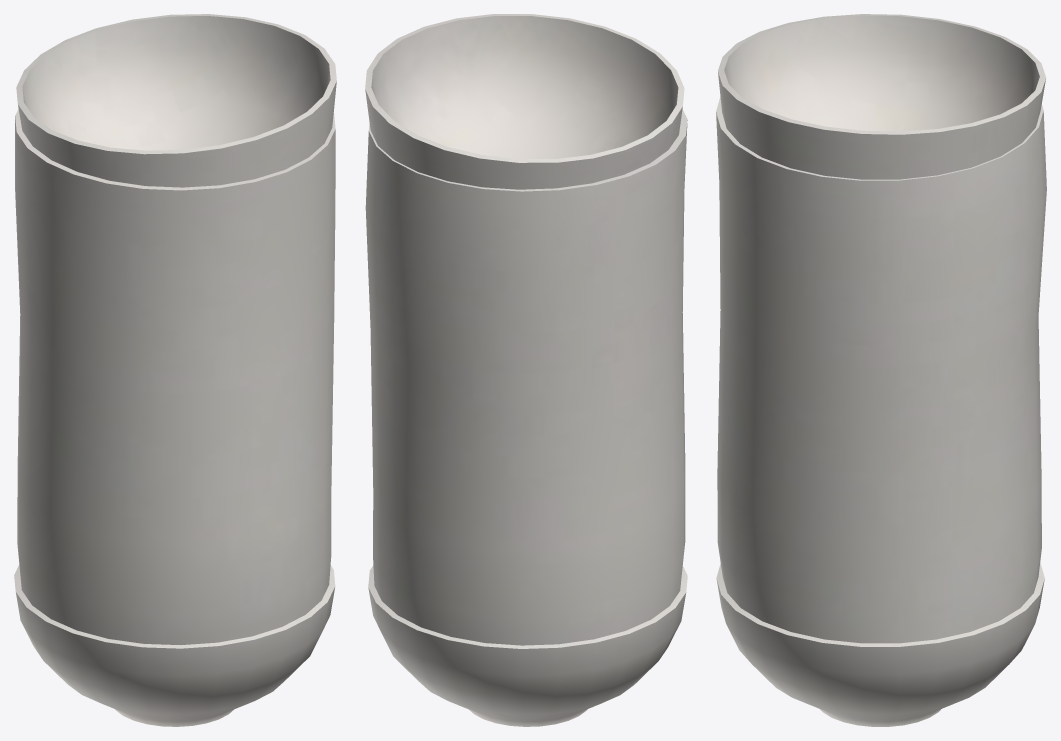
Rendered from T_Kitchen_Bowl_Stack_02.glb.
3 renders of one model, left to right at view 1: azimuth 30°, elevation 25°; view 2: azimuth 150°, elevation 25°; view 3: azimuth 270°, elevation 25°, orthographic. The views are drawn at different scales.
Parts seen in each view (by area): view 1: T_Kitchen_Bowl_Stack_02; view 2: T_Kitchen_Bowl_Stack_02; view 3: T_Kitchen_Bowl_Stack_02.
Part boxes in pixels (x1,y1,x2,y2): T_Kitchen_Bowl_Stack_02: (14,14,336,726); T_Kitchen_Bowl_Stack_02: (365,14,687,726); T_Kitchen_Bowl_Stack_02: (716,14,1046,726).
Bounding box in the file's own units: 0.1803 × 0.3852 × 0.1815.
Materials: 1 (1 with a texture image).
